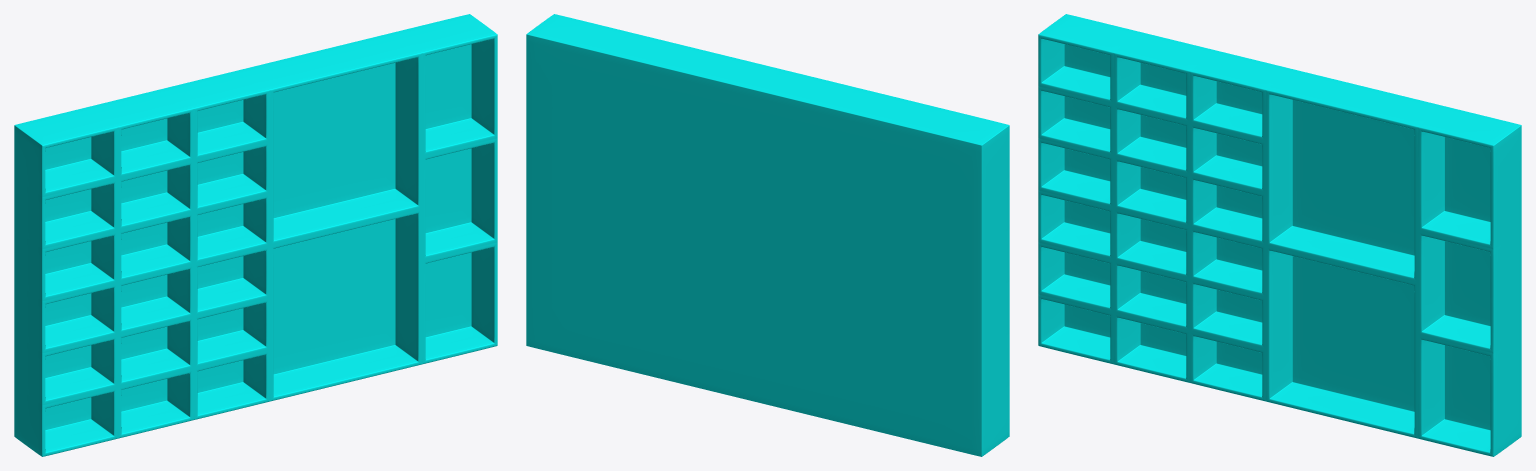
Rendered from Shelf.fbx.
3 renders of one model, left to right at view 1: azimuth 30°, elevation 25°; view 2: azimuth 150°, elevation 25°; view 3: azimuth 330°, elevation 25°, orthographic.
Parts seen in each view (by area): view 1: Shelf_High; view 2: Shelf_High; view 3: Shelf_High.
Boxes of the visible parts, box(x1,y1,x2,y2) form: Shelf_High: box(14, 14, 497, 456); Shelf_High: box(526, 14, 1009, 456); Shelf_High: box(1038, 14, 1521, 456).
Size of the model in its own units: 9.32 by 6.09 by 1.
